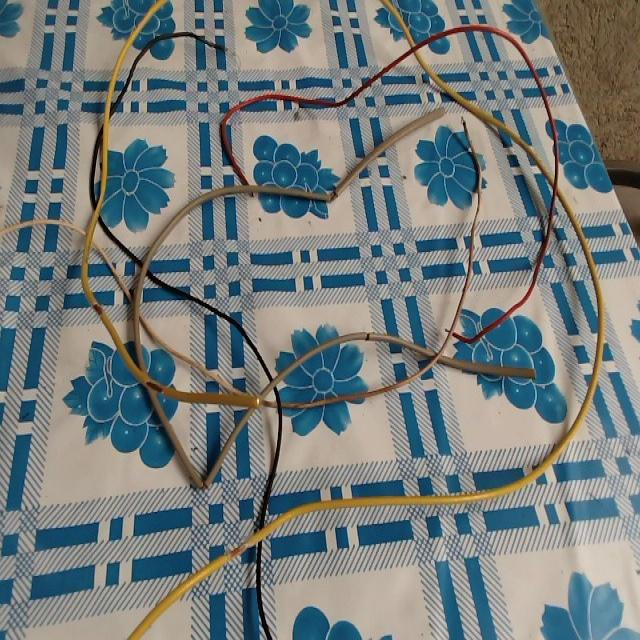-: (144, 373, 167, 400), (227, 537, 247, 563), (195, 472, 212, 492), (88, 299, 105, 317), (360, 330, 375, 346), (326, 185, 337, 204), (460, 115, 468, 133)
